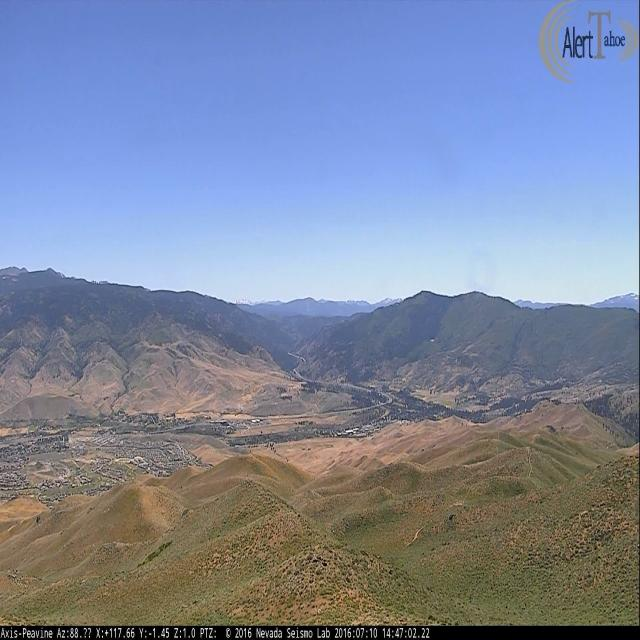smoke: (236, 400, 243, 412)
